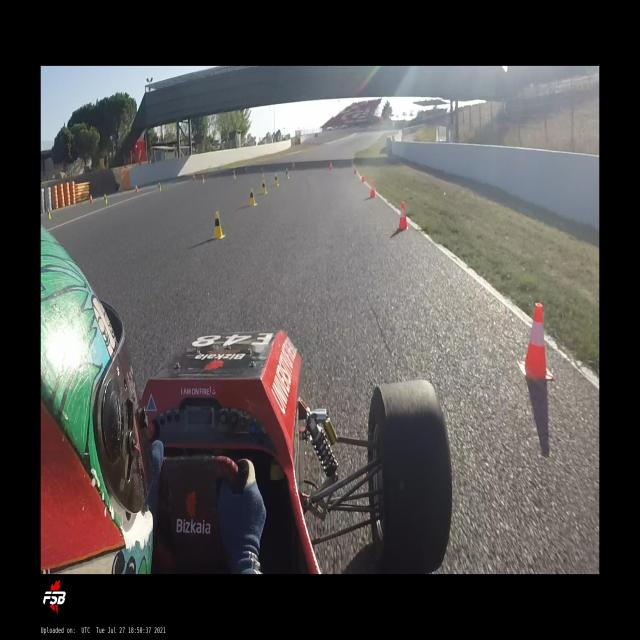orange_cone: (518, 304, 553, 379), (397, 202, 408, 230), (368, 180, 376, 198), (360, 170, 366, 183), (353, 165, 357, 175), (329, 161, 333, 171), (292, 162, 296, 171), (90, 195, 94, 204), (135, 184, 138, 192), (192, 173, 195, 180)
yellow_cone: (212, 211, 225, 239), (248, 187, 257, 207), (261, 180, 268, 195), (274, 174, 280, 186), (285, 168, 290, 179), (104, 193, 108, 205), (260, 168, 264, 178), (232, 169, 236, 179), (158, 182, 162, 192), (48, 209, 52, 219), (201, 174, 205, 183)
